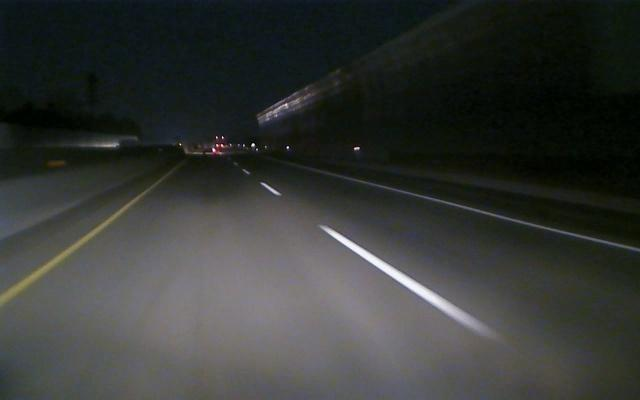lane: (260, 182, 500, 339), (341, 176, 638, 253), (3, 178, 163, 305)
